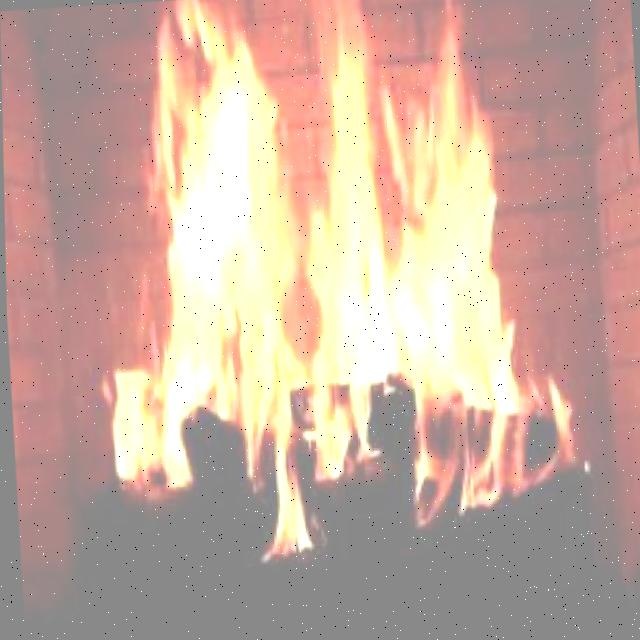Fire: (80, 0, 582, 588)
